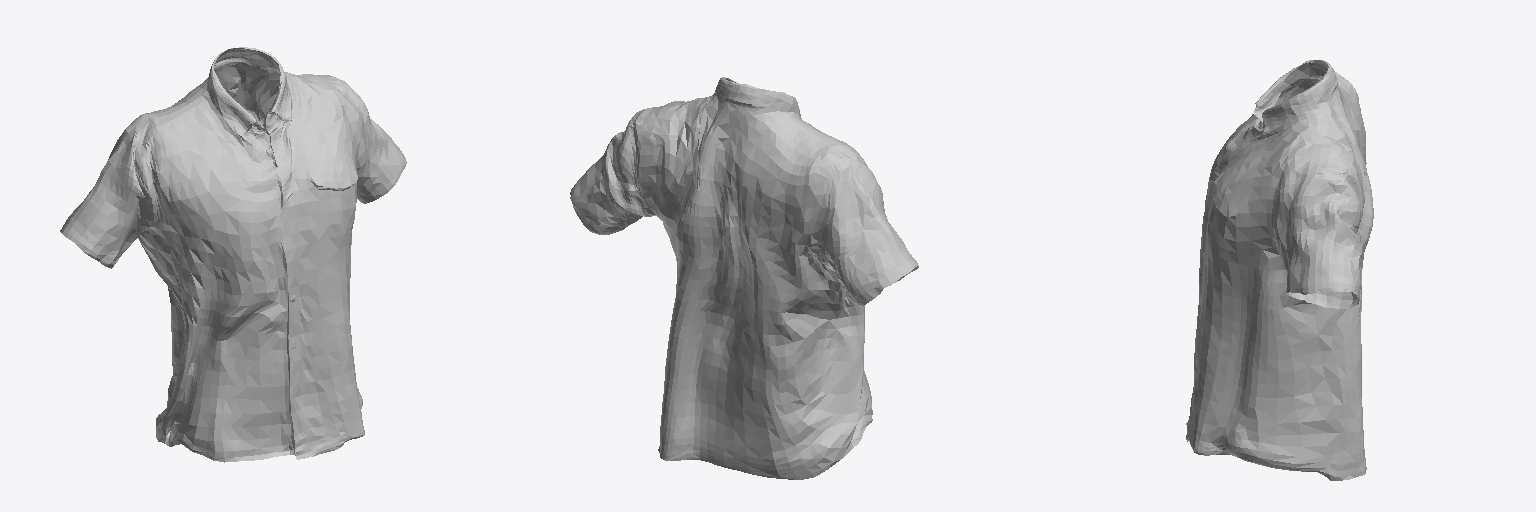
Rendered from yifu.obj.
3 views of the same model, side by side, from view 1: azimuth 30°, elevation 25°; view 2: azimuth 150°, elevation 25°; view 3: azimuth 270°, elevation 25° (orthographic).
Parts seen in each view (by area): view 1: Lino; view 2: Lino; view 3: Lino.
Part boxes in pixels (x1,y1,x2,y2): Lino: (60,47,406,462); Lino: (570,77,918,479); Lino: (1186,60,1373,480).
Bounding box in the file's own units: 1.56 × 1.68 × 0.7536.